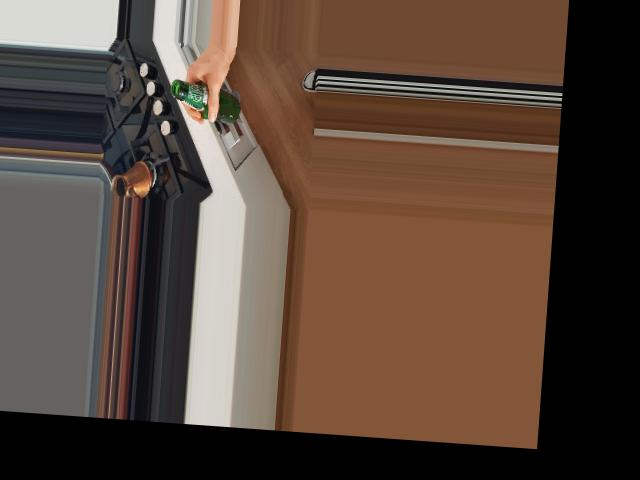beer: (168, 78, 242, 123)
